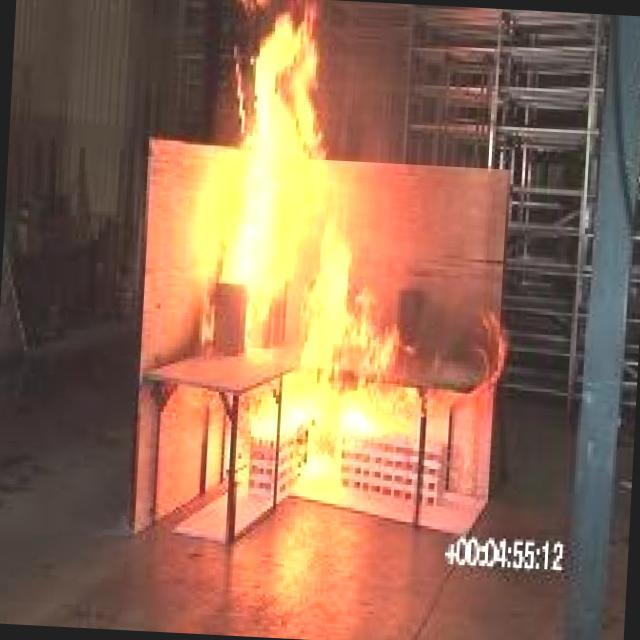fire: (169, 0, 470, 525)
